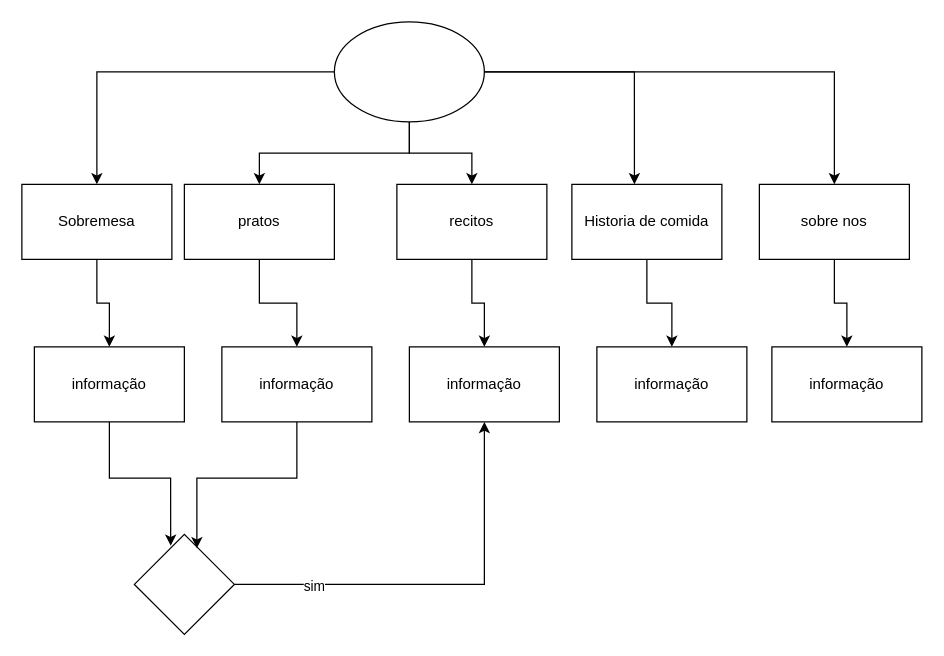
The diagram is 944 pixels wide and 656 high, and some of its shapes have lost their labels. Each missing label, with the centre of its shape:
"homepage" goes at [408,71].
"recito" goes at [183,583].
